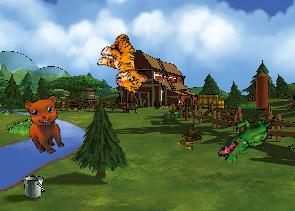bear: (16, 89, 78, 159)
crocodile: (215, 104, 276, 173)
tiger: (90, 29, 160, 97)
